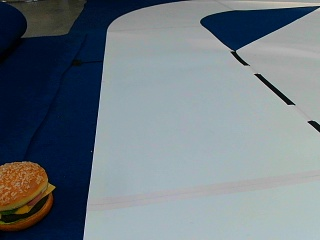burger: (1, 159, 55, 231)
